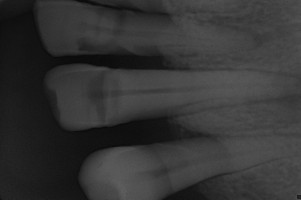Furcation Involvement: (202, 17, 263, 51), (246, 94, 301, 117)
